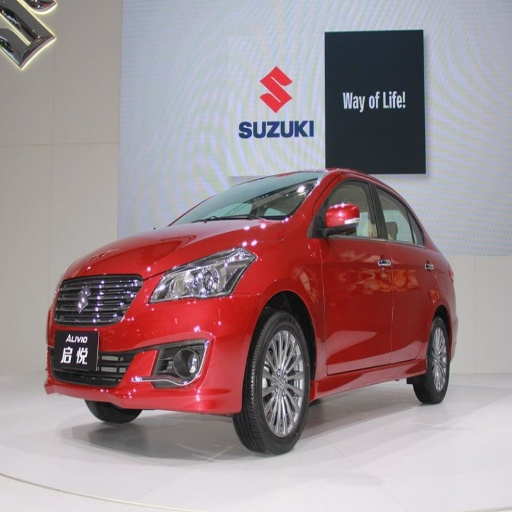front_bumper: (46, 273, 263, 412)
front_glass: (176, 173, 318, 222)
front_left_door: (313, 176, 390, 369)
front_left_light: (149, 248, 254, 301)
